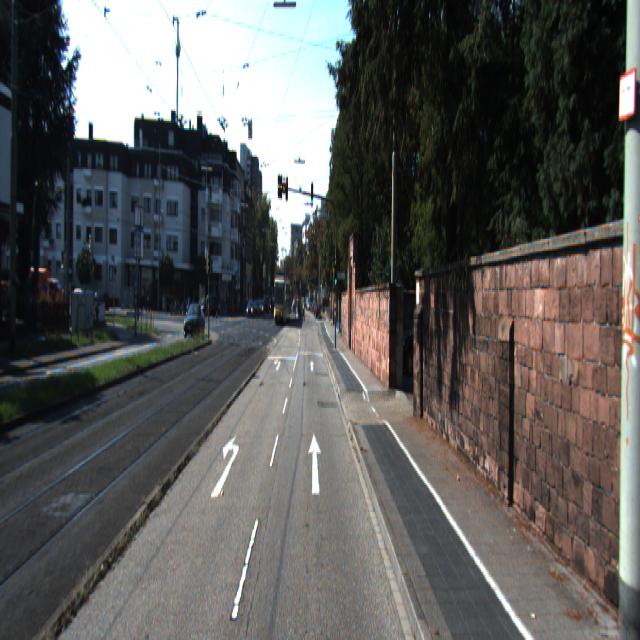Car: (183, 303, 205, 339)
